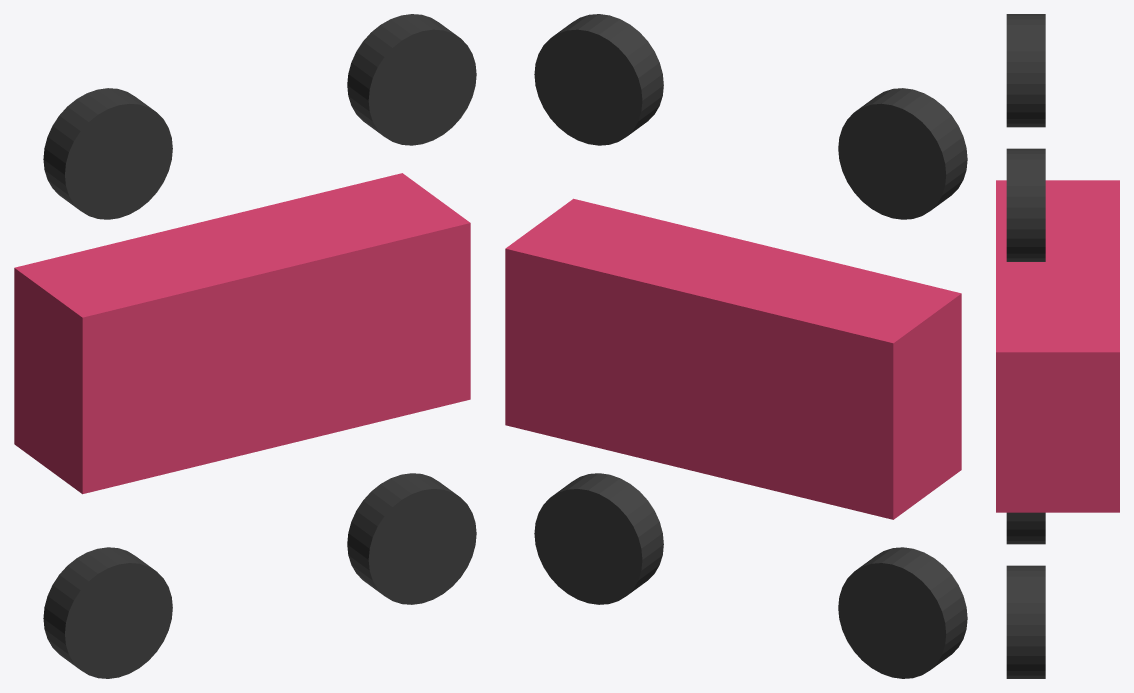
The picture shows the model from 3 angles, left to right: view 1: azimuth 30°, elevation 25°; view 2: azimuth 150°, elevation 25°; view 3: azimuth 270°, elevation 25°; orthographic projection. The views are drawn at different scales.
Parts seen in each view (by area): view 1: Body, WheelFL, WheelFR, WheelRR, WheelRL; view 2: Body, WheelFL, WheelRL, WheelRR, WheelFR; view 3: Body, WheelFR, WheelRL, WheelRR, WheelFL.
Part boxes in pixels (x1=…): Body: x1=14, y1=173, x2=470, y2=494; WheelFL: x1=43, y1=547, x2=172, y2=678; WheelFR: x1=347, y1=473, x2=476, y2=604; WheelRR: x1=347, y1=14, x2=476, y2=145; WheelRL: x1=43, y1=88, x2=172, y2=219; Body: x1=505, y1=198, x2=961, y2=519; WheelFL: x1=838, y1=547, x2=967, y2=678; WheelRL: x1=838, y1=88, x2=967, y2=219; WheelRR: x1=534, y1=14, x2=663, y2=145; WheelFR: x1=534, y1=473, x2=663, y2=604; Body: x1=996, y1=180, x2=1119, y2=512; WheelFR: x1=1006, y1=565, x2=1045, y2=678; WheelRL: x1=1006, y1=14, x2=1045, y2=127; WheelRR: x1=1006, y1=148, x2=1045, y2=261; WheelFL: x1=1006, y1=512, x2=1045, y2=544.
Bounding box in the file's own units: 2.44 × 3.24 × 0.7.
